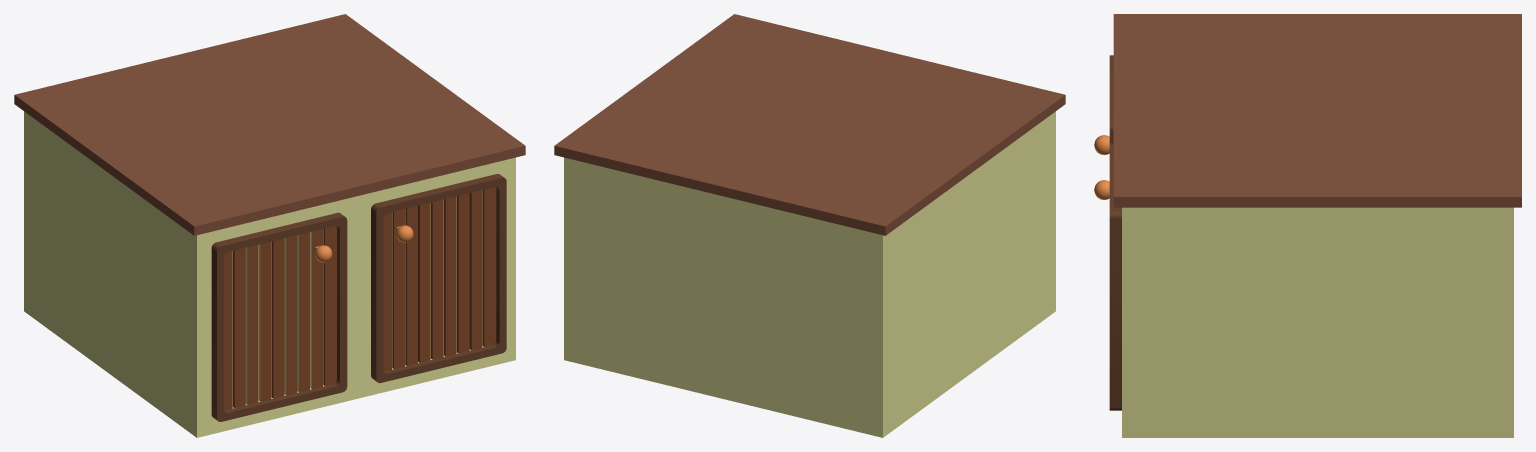
The model's file is Counter3D.fbx.
3 renders of one model, left to right at view 1: azimuth 30°, elevation 25°; view 2: azimuth 150°, elevation 25°; view 3: azimuth 270°, elevation 25°, orthographic. The views are drawn at different scales.
Visible parts, largest first — view 1: Counter3D; view 2: Counter3D; view 3: Counter3D.
Boxes of the visible parts, box(x1,y1,x2,y2) form: Counter3D: box(14, 14, 525, 437); Counter3D: box(554, 14, 1065, 437); Counter3D: box(1094, 14, 1521, 437).
Size of the model in its own units: 336 by 209 by 332.
